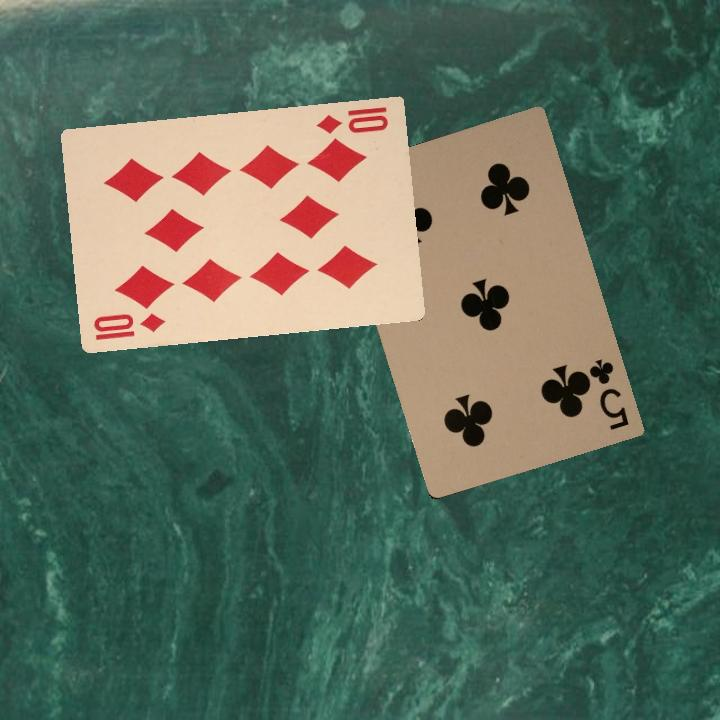10d: (89, 309, 168, 343), (312, 103, 391, 137)
5c: (581, 355, 631, 433)
